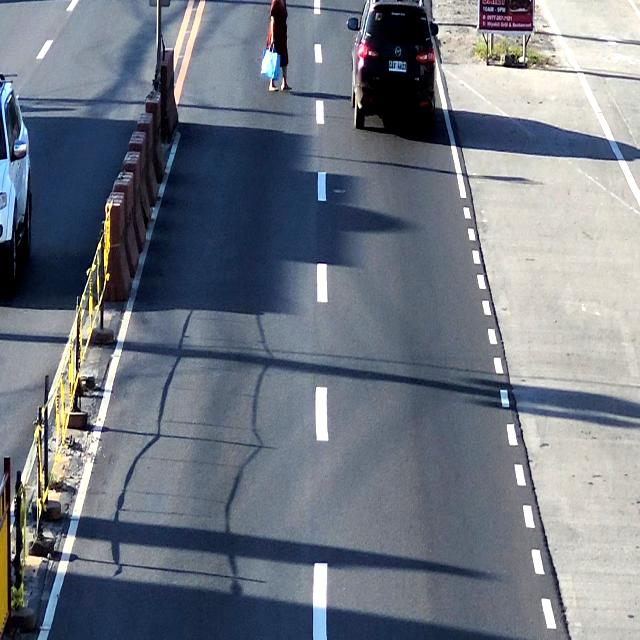Car: (353, 0, 440, 135)
License-Plate: (388, 59, 408, 74)
